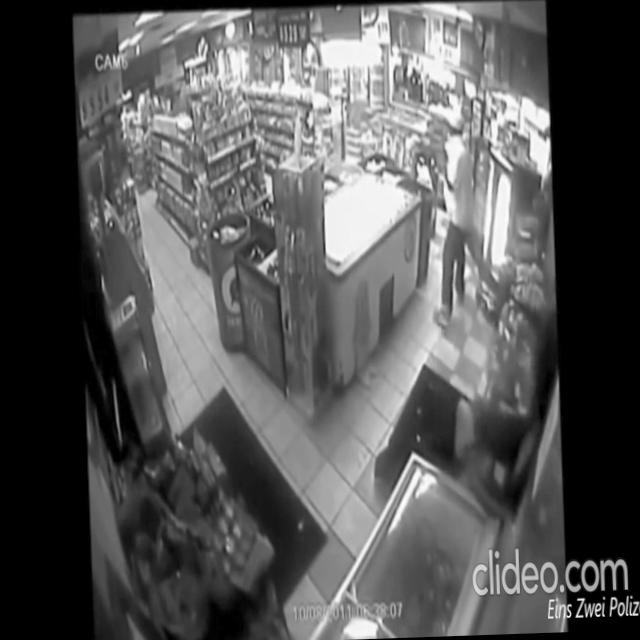person: (444, 292, 560, 482), (425, 105, 480, 332)
